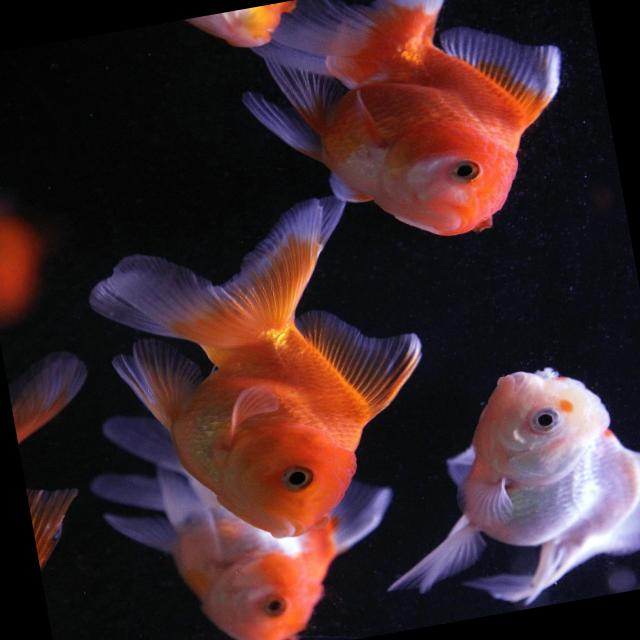GoldFish: (73, 184, 443, 570), (219, 0, 597, 271), (92, 369, 413, 640)
